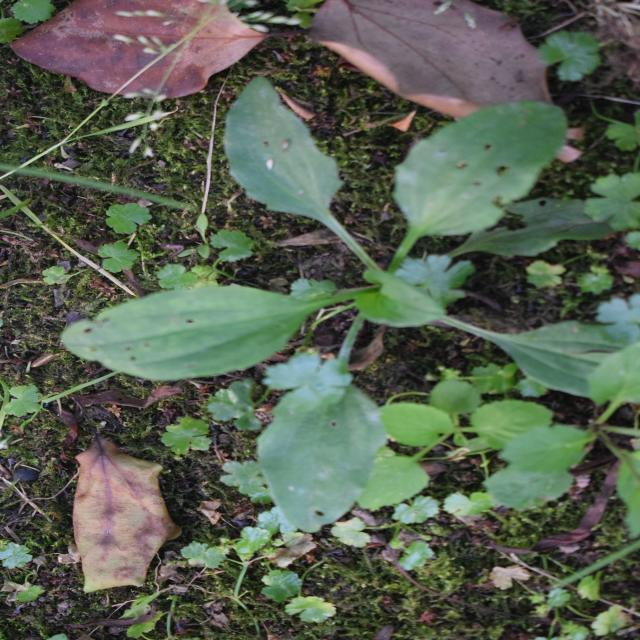plantain: (142, 94, 552, 565)
